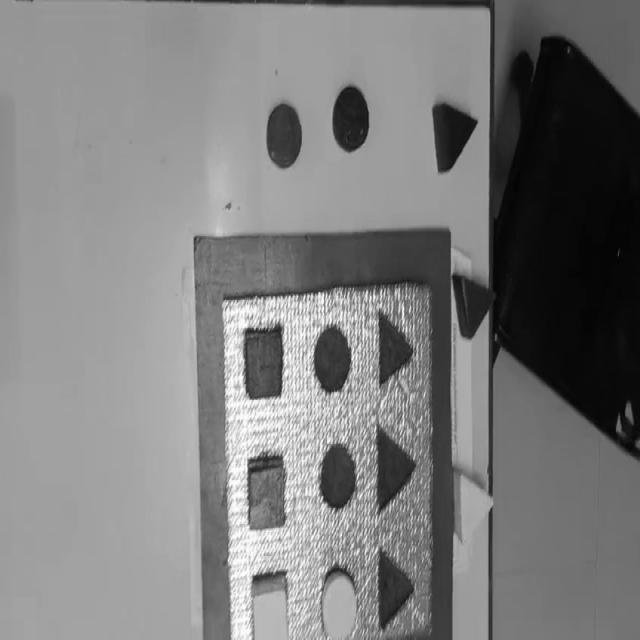bcircle: (332, 85, 370, 154)
bcube: (244, 329, 284, 400)
btriangle: (432, 102, 478, 175)
mtcircle: (318, 442, 358, 512), (313, 324, 352, 394)
mttriangle: (376, 421, 418, 511), (377, 546, 415, 631), (377, 310, 415, 388)
rcircle: (266, 103, 302, 169)
rcube: (247, 455, 286, 532)
rtriangle: (451, 272, 496, 341)
wb: (216, 276, 434, 640)
ycircle: (319, 564, 360, 640)
ycube: (251, 573, 289, 640)
ytriangle: (452, 466, 495, 548)
